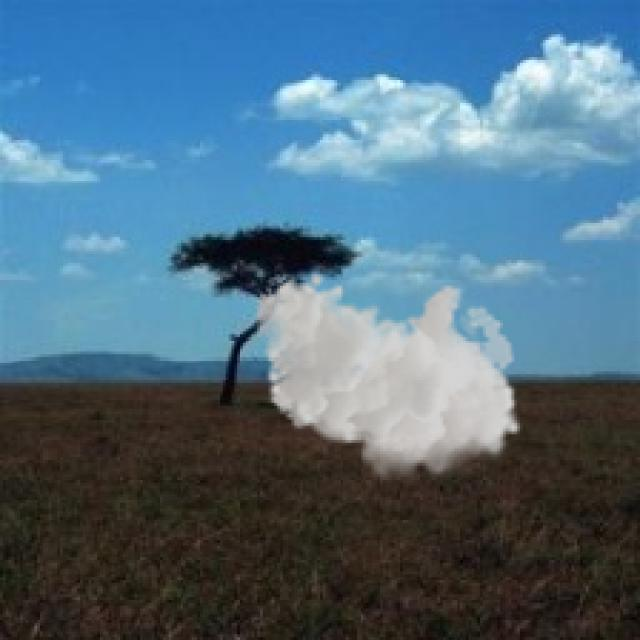Smoke: (254, 271, 523, 486)
